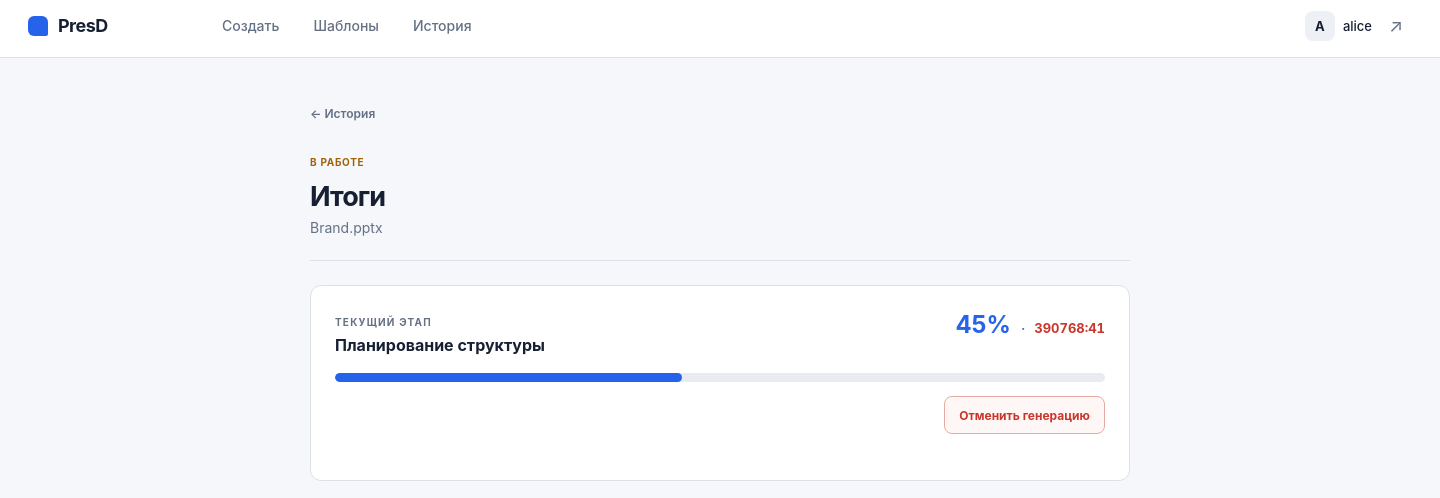
Test: active job can be canceled from its progress screen after confirmation
Click the button "Отменить генерацию".
click(1025, 415)  # box [944,396,1105,434]
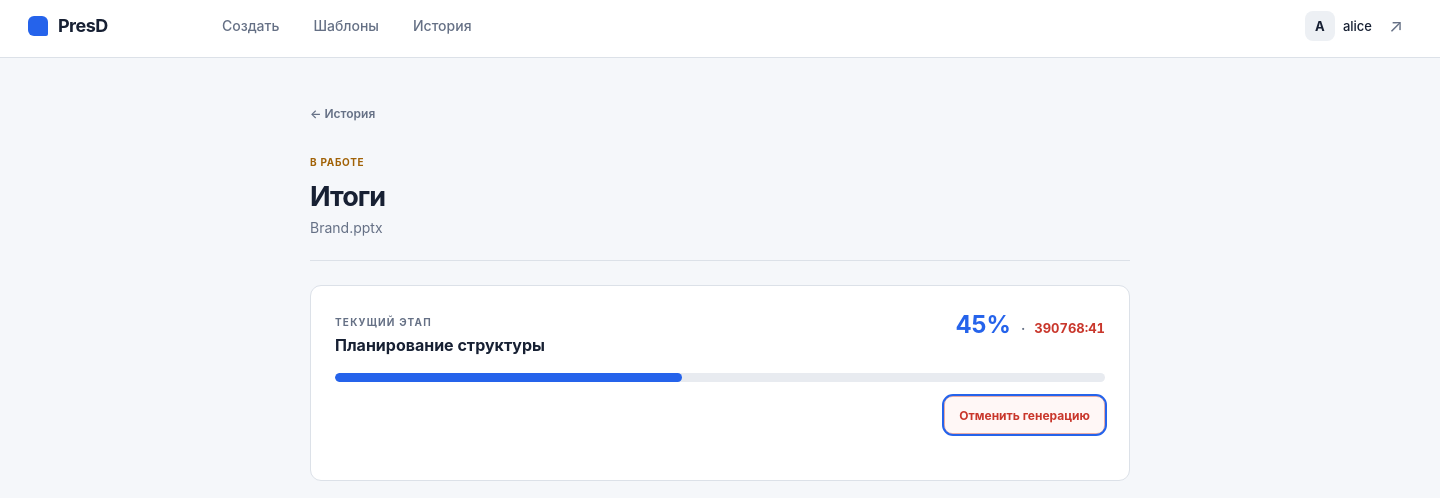
Click the button "Отменить генерацию".
click(1025, 415)  # box [944,396,1105,434]
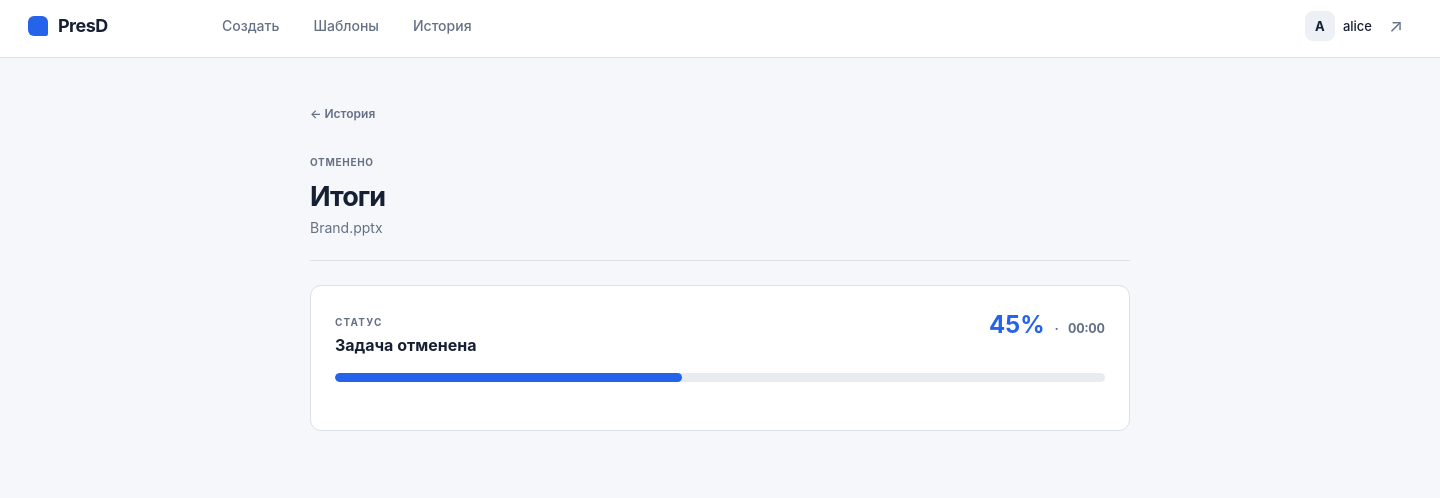
Expected: the text "Отменено" is shown, [310,156,374,168]
Expected: the heading "Задача отменена" is shown, [335,335,476,355]
Expected: the button "Отменить генерацию" is gone
